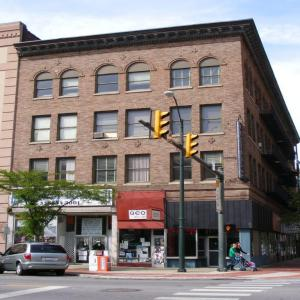Vehicle-registration-plate: (45, 258, 55, 262)
